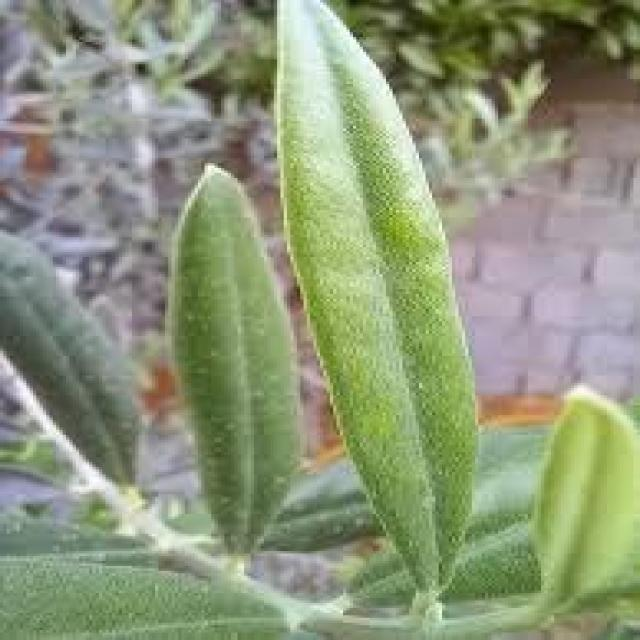Healthy: (274, 0, 475, 633), (168, 166, 297, 551)
